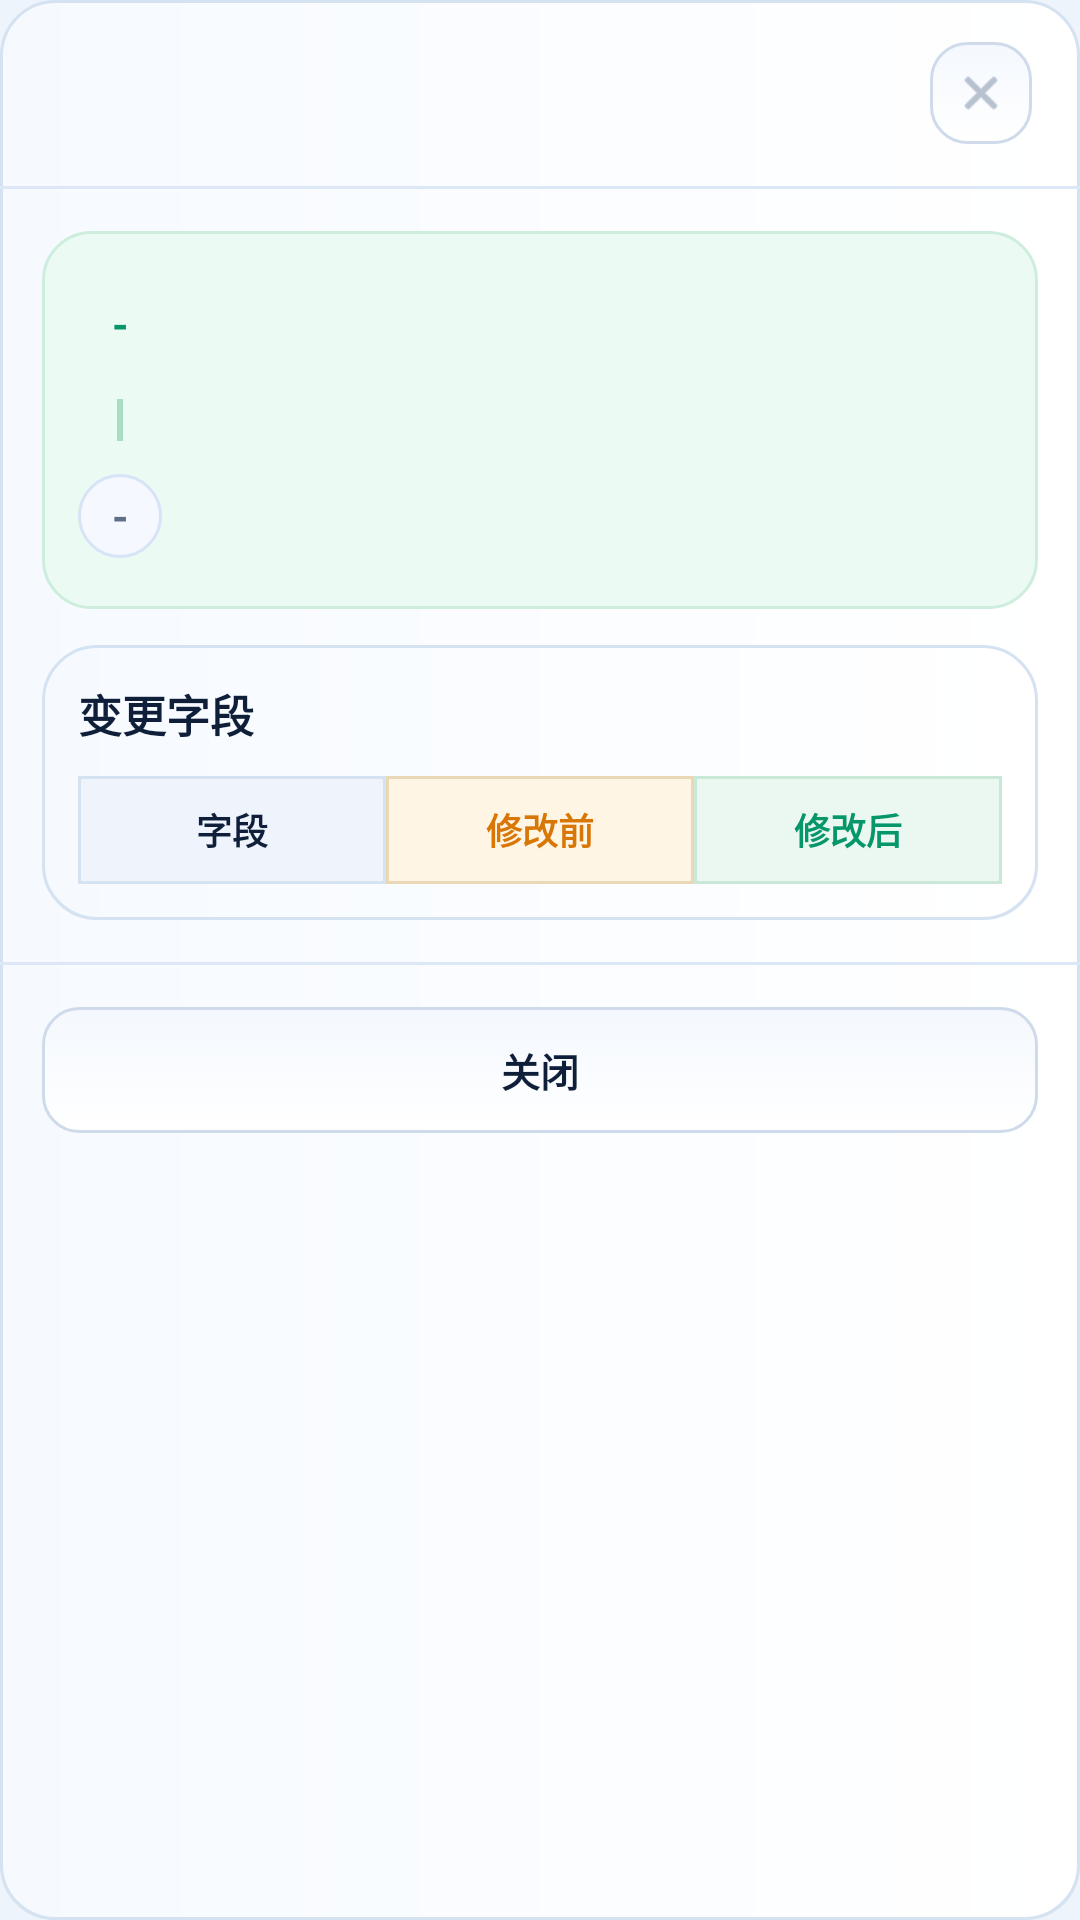

Locate icon controls on the screen. Image size 1080 × 1920, boxes as (x1, y1, x2, y2).
close clear cancel: (930, 42, 1032, 144)
